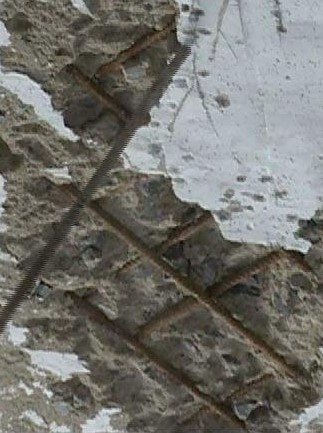Exposed reinforcement: (66, 182, 310, 389), (64, 289, 248, 433), (136, 247, 290, 342), (173, 370, 276, 433), (115, 212, 213, 275), (92, 21, 177, 85), (68, 63, 133, 123)
Spalling: (1, 1, 323, 433)
